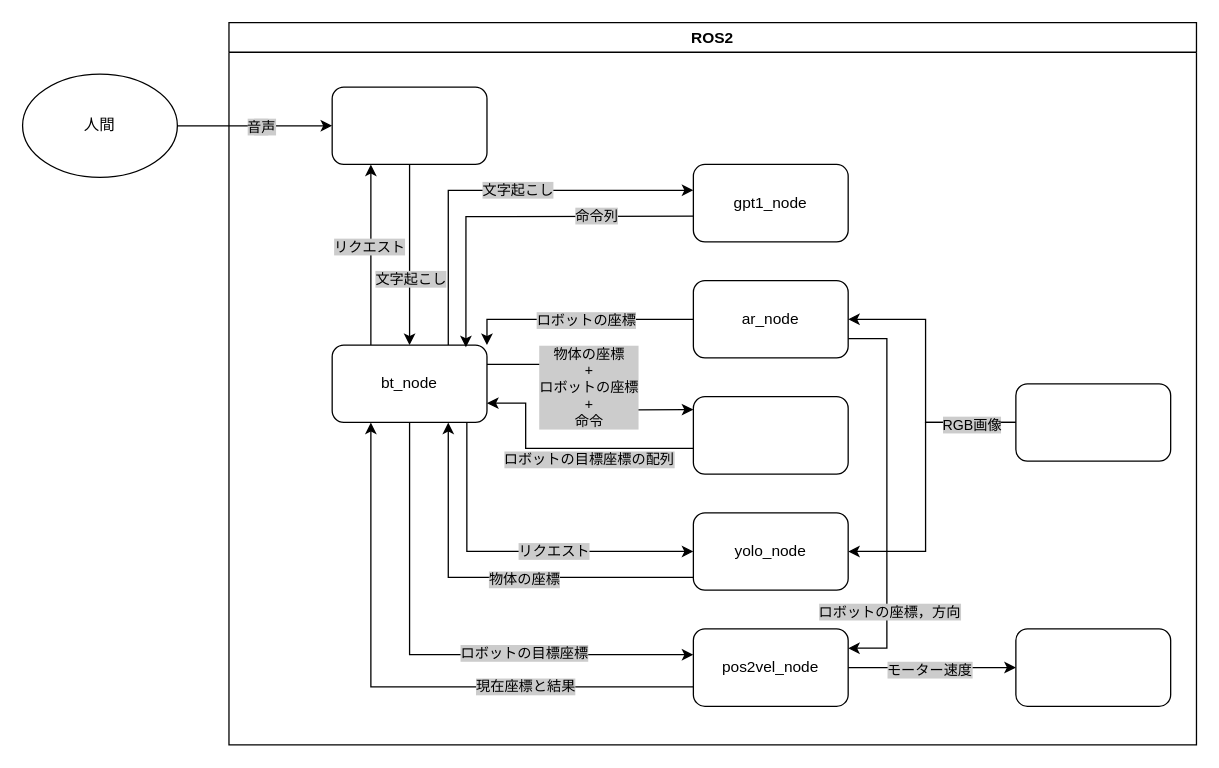
Image size: 1219x768. Some labels were removed from this diagram. The centre of each missing label's shape, as x and y in pixels:
gpt2_node: point (770, 434)
raspimouse: point (1093, 667)
realsense2_camera: point (1093, 421)
vosk_node: point (409, 125)
